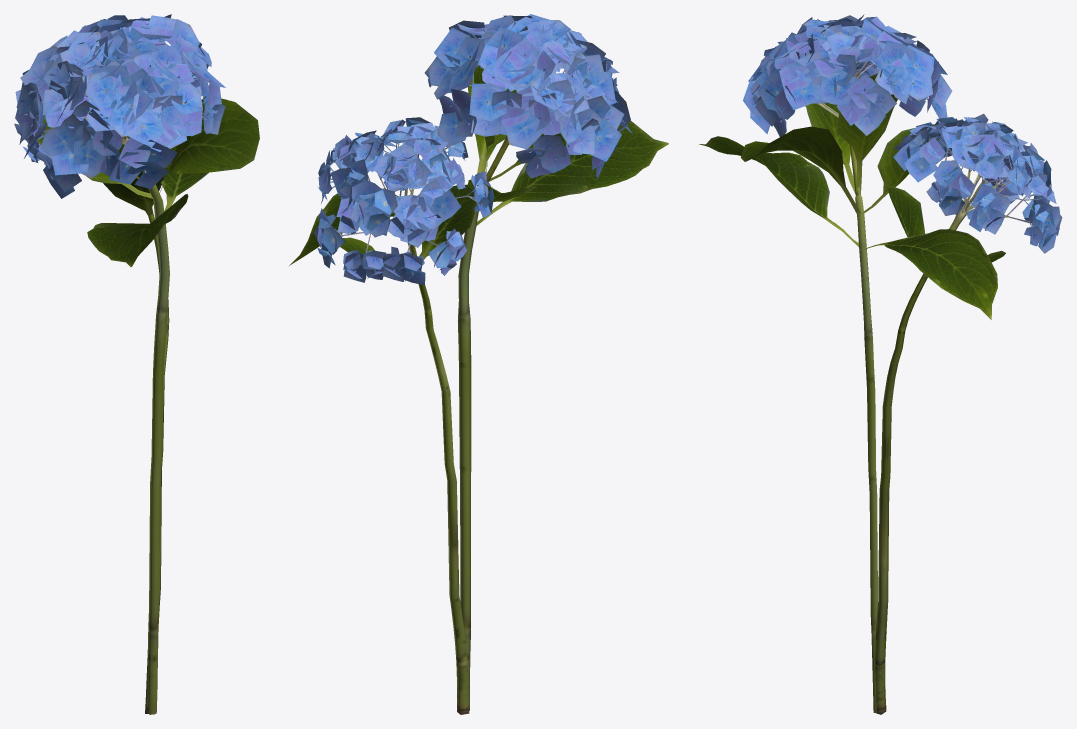
File: Hydrangea_bush_normal_deepblue.glb
The picture shows the model from 3 angles, left to right: view 1: azimuth 30°, elevation 25°; view 2: azimuth 150°, elevation 25°; view 3: azimuth 270°, elevation 25°; orthographic projection. The views are drawn at different scales.
Visible parts, largest first — view 1: BUSHEKK; view 2: BUSHEKK; view 3: BUSHEKK.
Part boxes in pixels (bbox=[...]): BUSHEKK: bbox=[14, 14, 259, 714]; BUSHEKK: bbox=[289, 14, 668, 714]; BUSHEKK: bbox=[699, 14, 1062, 714].
Size of the model in its own units: 1.48 by 3.79 by 1.87.
1 material, 1 textured.
